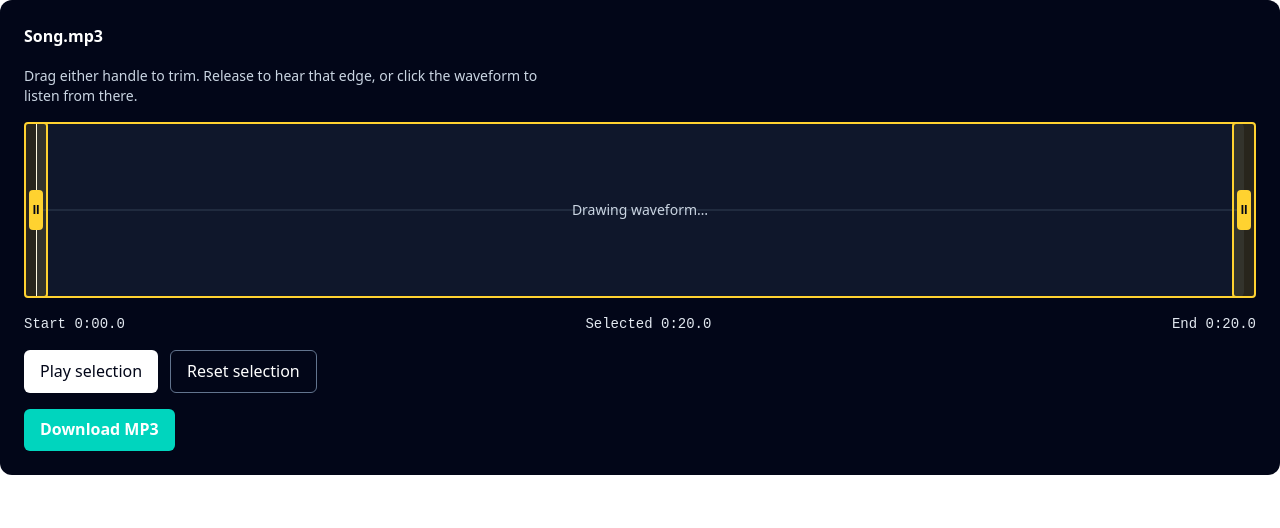
Test: exports only the selected range and invalidates an old clip when handles change
Press ArrowRight in the slider named "Selection start", box left=24, top=122, right=48, bottom=298
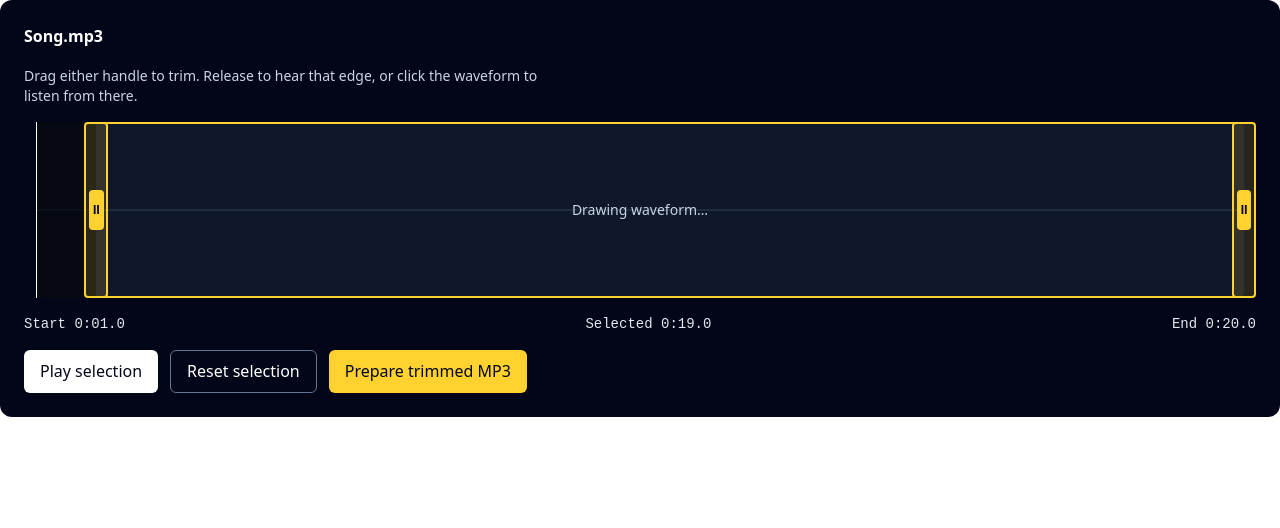
Press ArrowLeft in the slider named "Selection end", box left=1232, top=122, right=1256, bottom=298
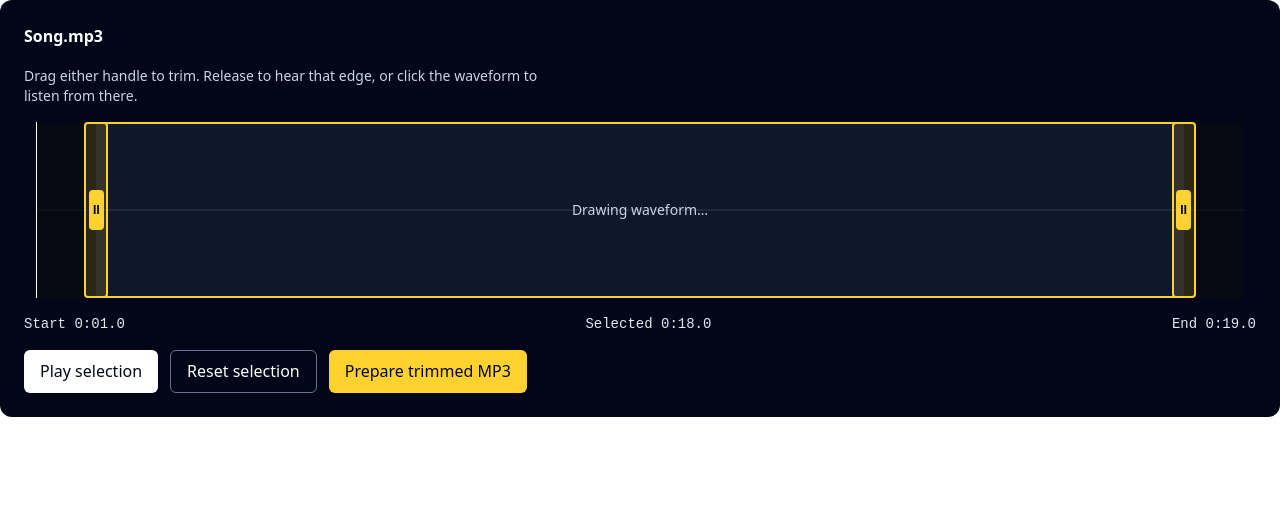
Click the button "Prepare trimmed MP3" at (428, 371), box left=329, top=350, right=527, bottom=393
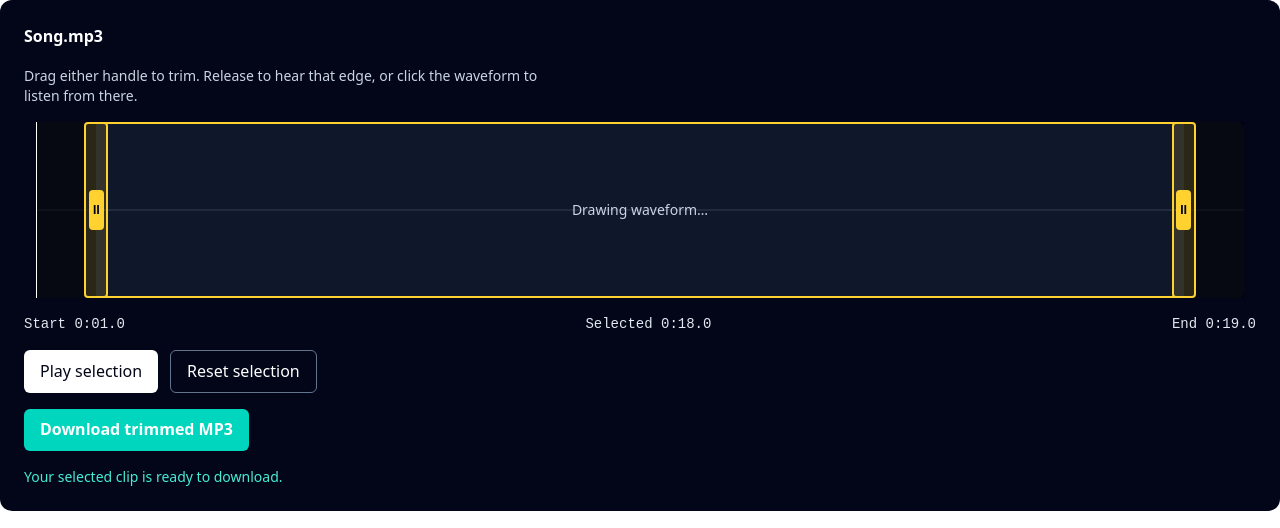
Press End in the slider named "Selection start", box left=84, top=122, right=108, bottom=298
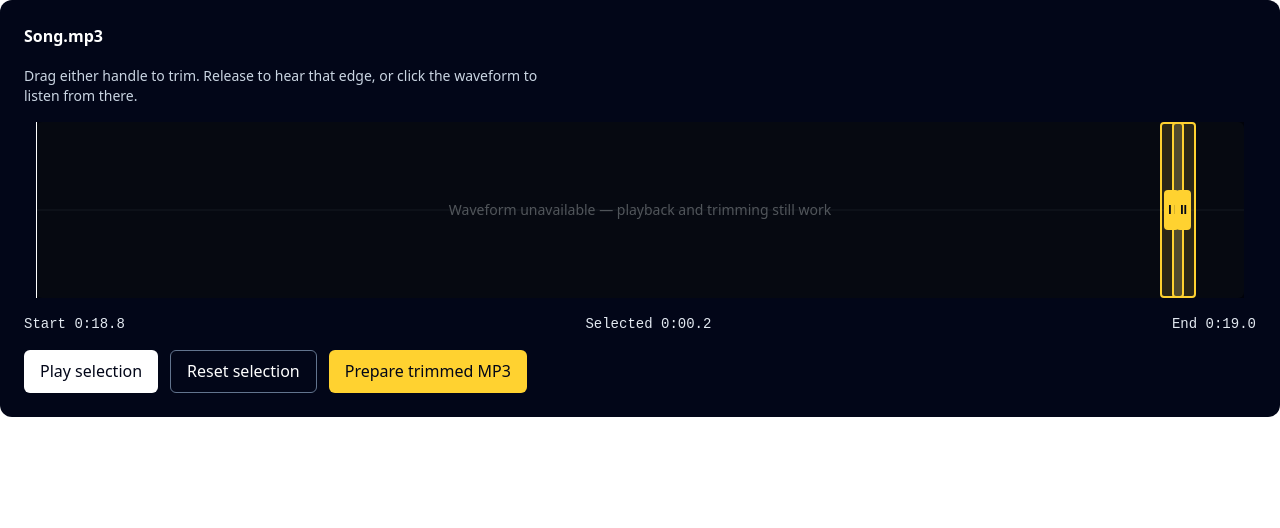
Expected: the link "Download trimmed MP3" is gone
